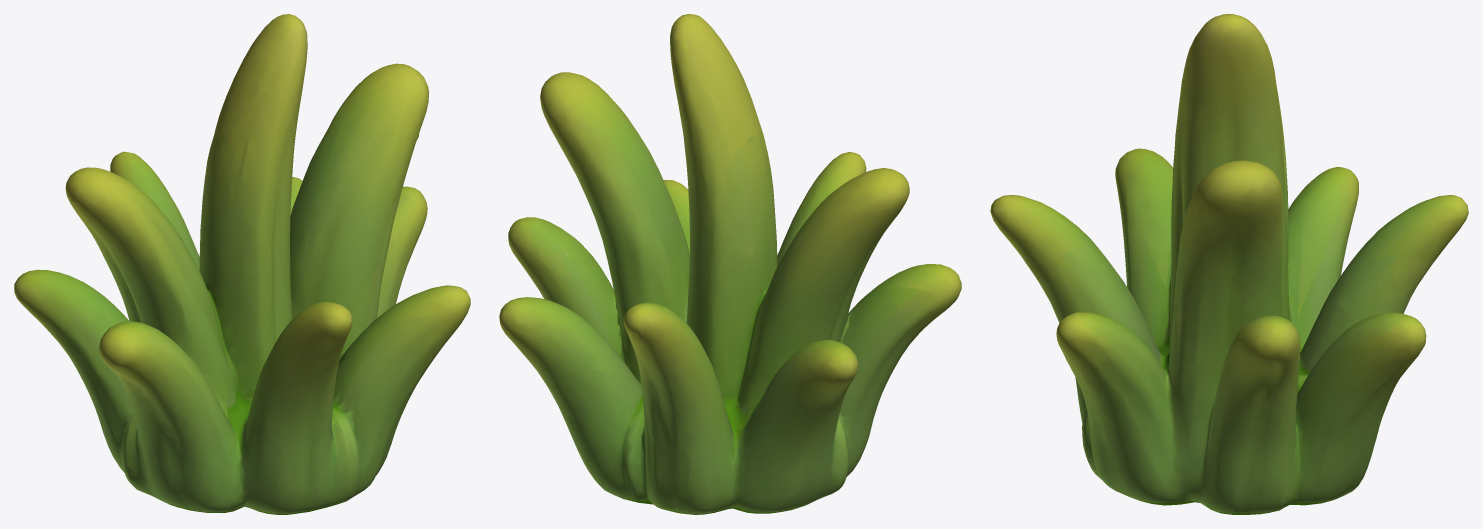
File: tripo_convert_2ac0d727-0714-4264-acd4-4931c7c8e3f1.fbx
The picture shows the model from 3 angles, left to right: view 1: azimuth 30°, elevation 25°; view 2: azimuth 150°, elevation 25°; view 3: azimuth 270°, elevation 25°; orthographic projection. The views are drawn at different scales.
Visible parts, largest first — view 1: tripo_node_2ac0d727; view 2: tripo_node_2ac0d727; view 3: tripo_node_2ac0d727.
Boxes of the visible parts, x1,y1,x2,y2 form: tripo_node_2ac0d727: (14,14,470,514); tripo_node_2ac0d727: (499,14,961,514); tripo_node_2ac0d727: (990,14,1468,514).
Size of the model in its own units: 0.8904 by 1 by 0.9064.
1 material, 1 textured.
